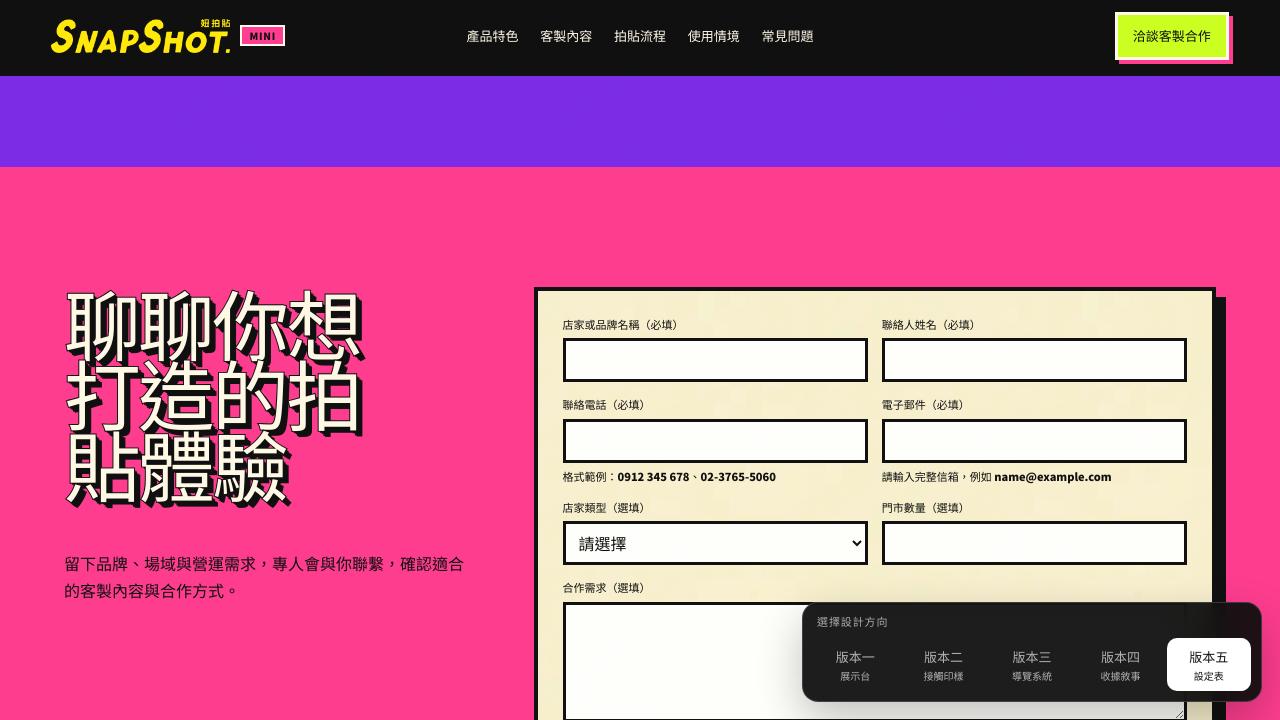
Test: SnapShotMini landing page directions › rejects incomplete email addresses before submission
This screenshot has width=1280, height=720.
(page scrolled)
In the field labelled "店家或品牌名稱（必填）": [715, 360] box [562,338,868,382], type "測試品牌"
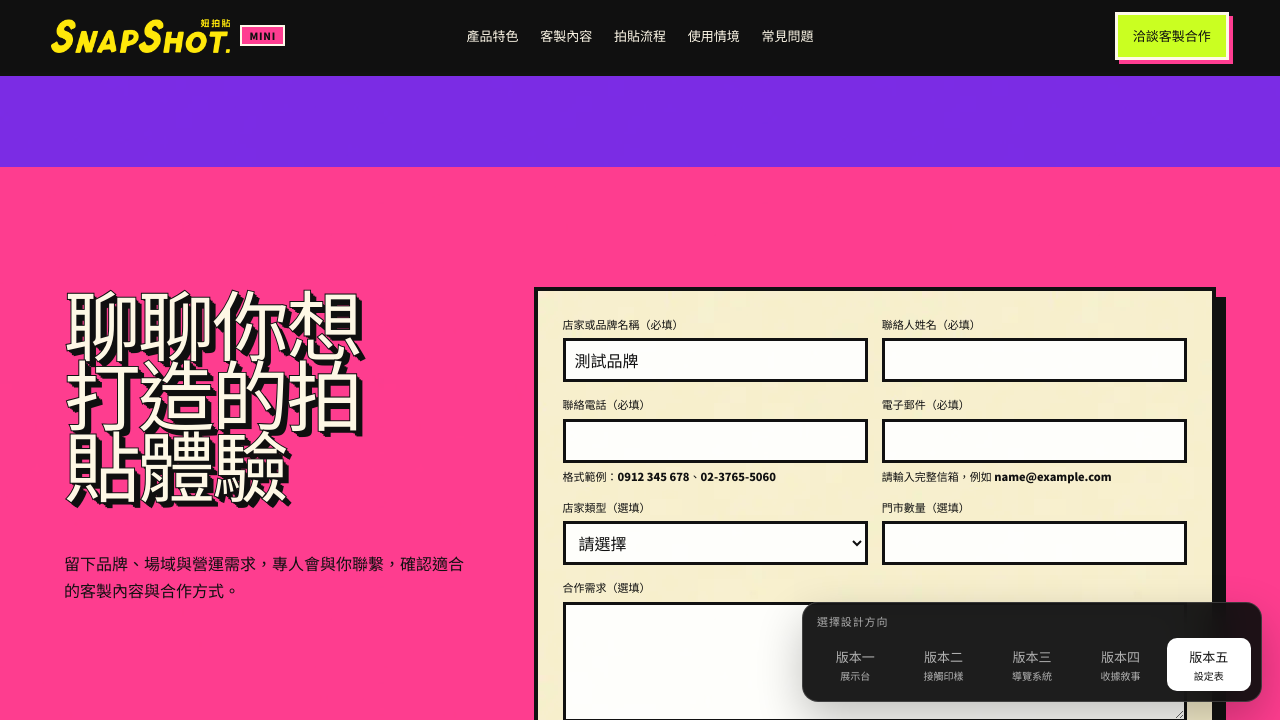
In the field labelled "聯絡人姓名（必填）": [1034, 360] box [882,338,1187,382], type "陳小姐"
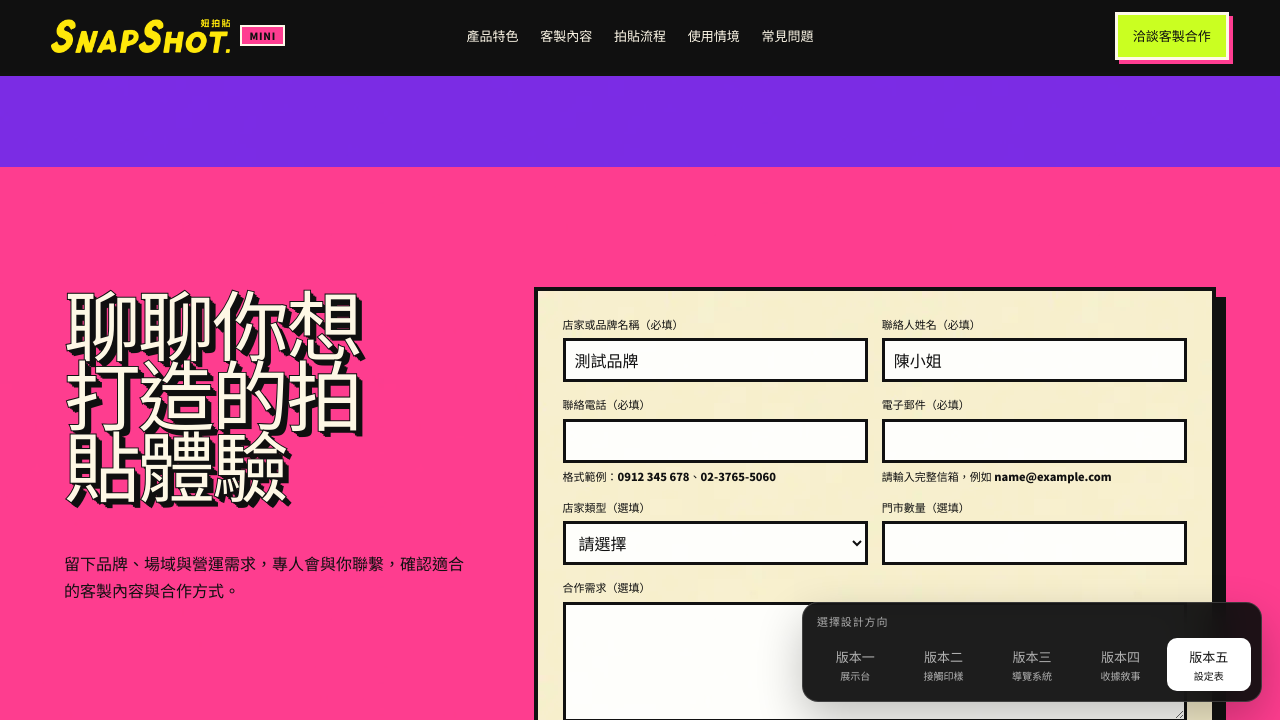
In the field labelled "聯絡電話（必填） 格式範例：0912 345 678、02-3765-5060": [715, 441] box [562,419,868,463], type "0912 345 678"
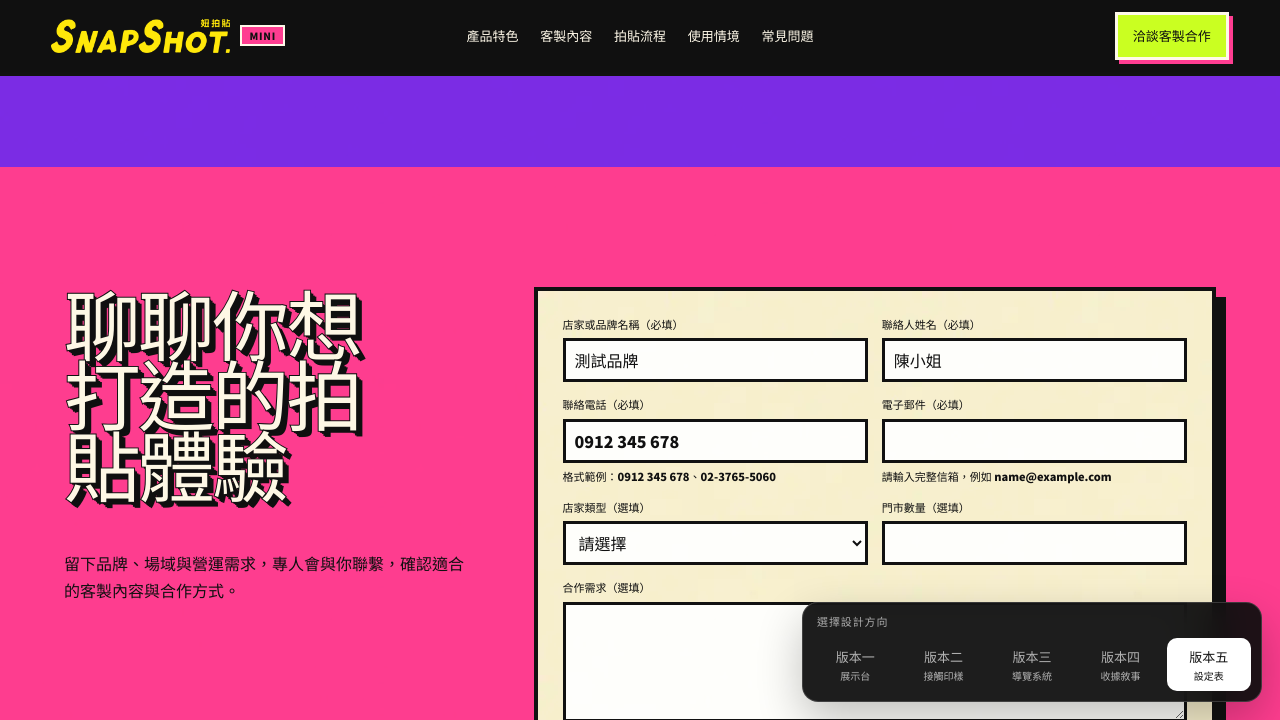
In the field labelled "電子郵件（必填） 請輸入完整信箱，例如 name@example.com": [1034, 441] box [882,419,1187,463], type "chen@mem"
(page scrolled)
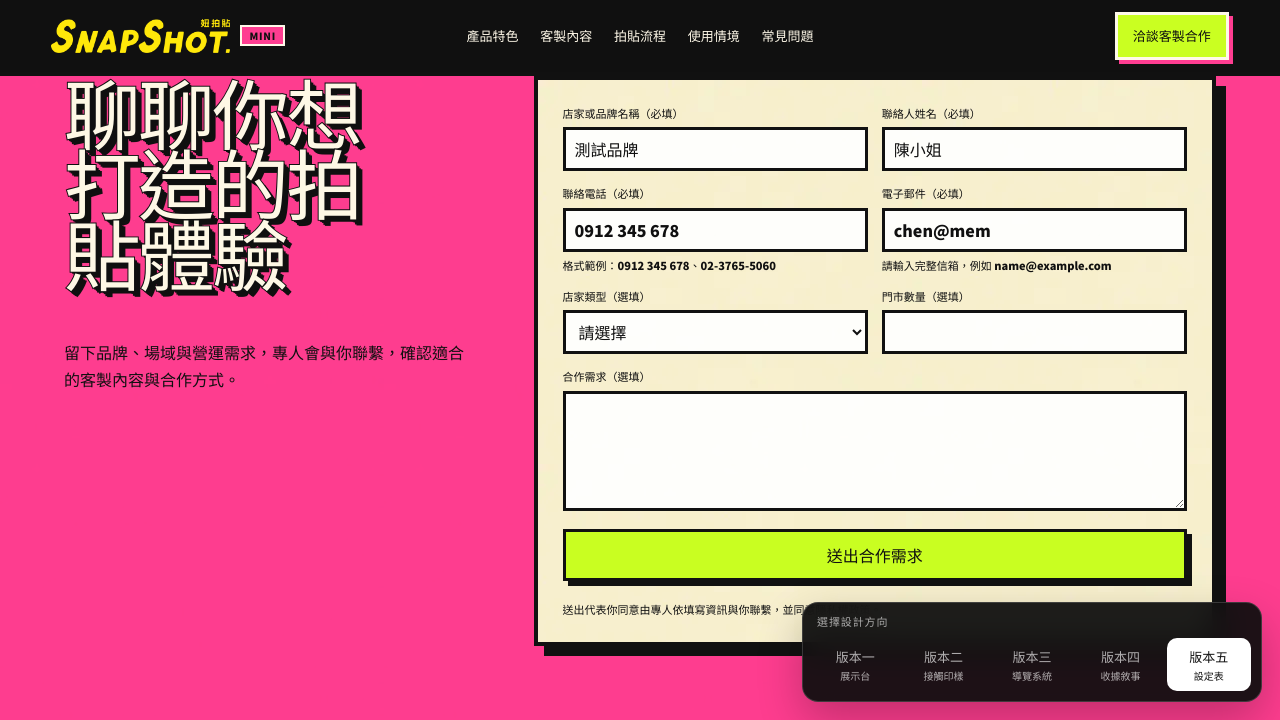
Submit the form named "送出合作需求", box [534,76,1216,646]
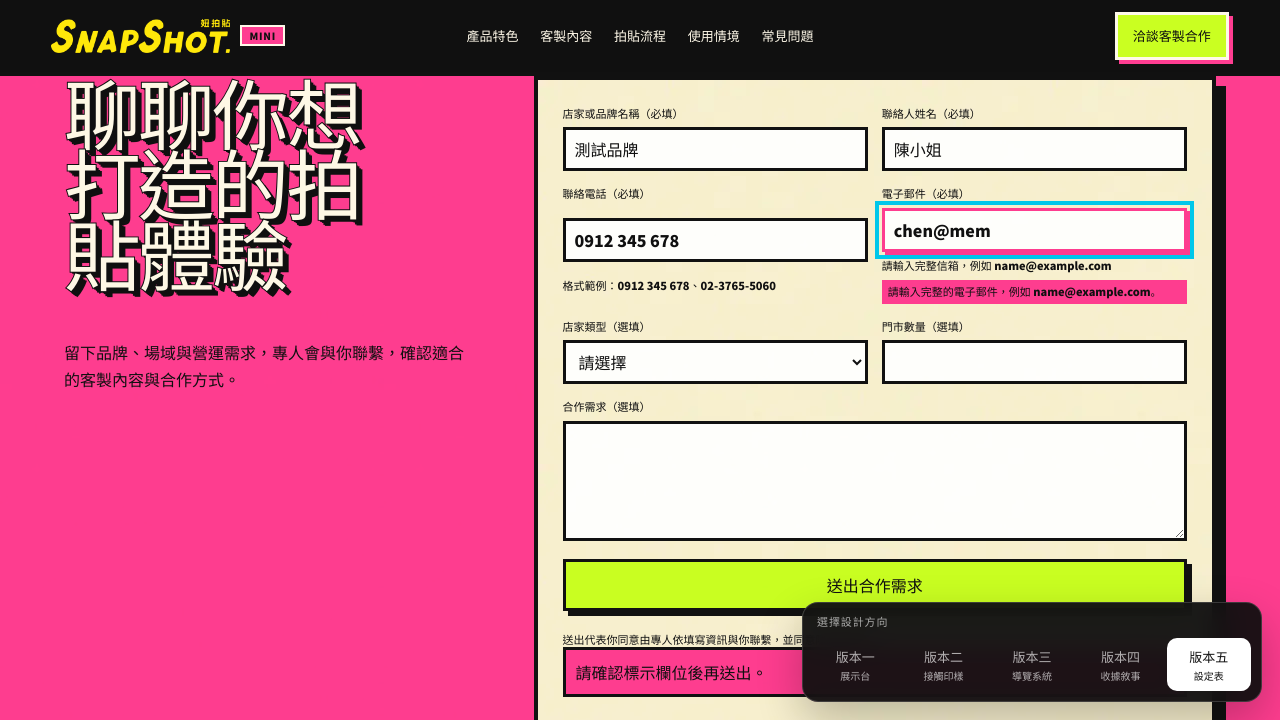
Expected: the text "請輸入完整的電子郵件，例如 name@example.com。" is shown, [882,280,1187,304]
